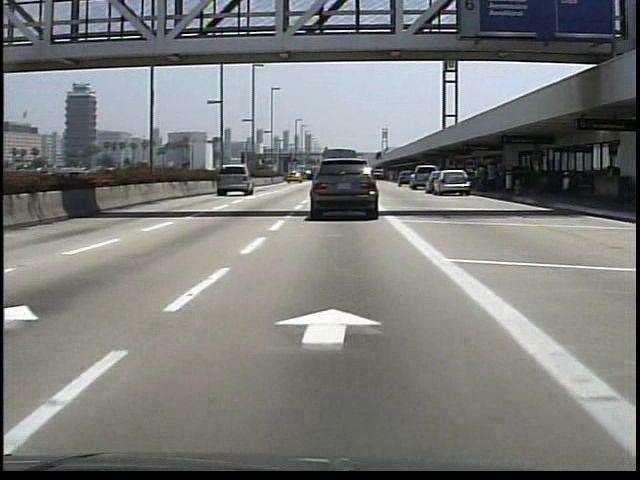person: (483, 158, 501, 196), (470, 163, 486, 196)
